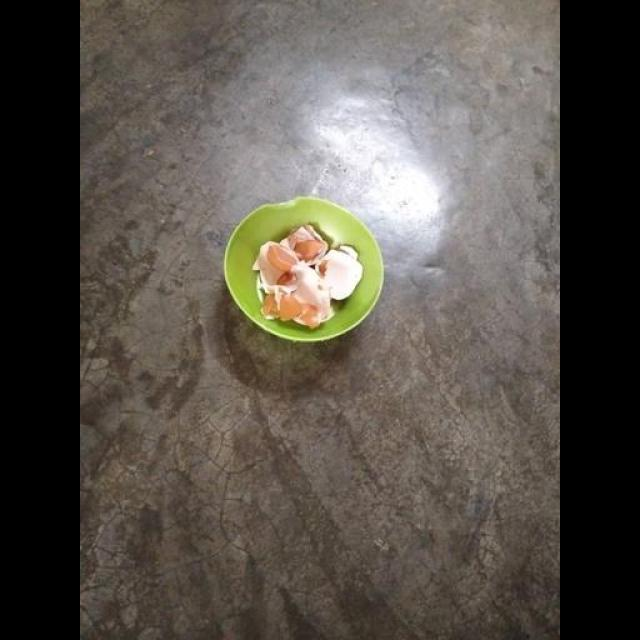organic: (224, 197, 383, 341)
